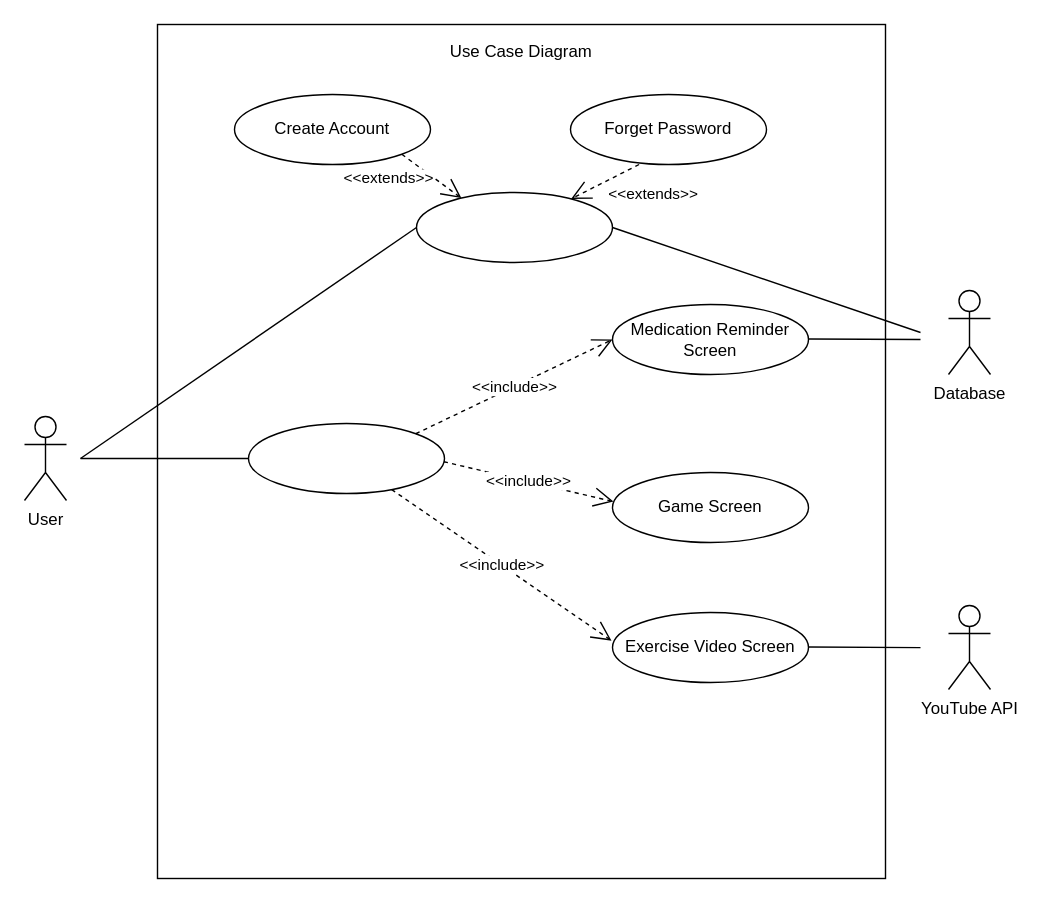
Image size: 1042x903. Some labels were removed from this diagram. Each missing label, with the box of its shape:
Login Screen: (415, 191, 612, 262)
Select Service: (247, 422, 444, 493)
